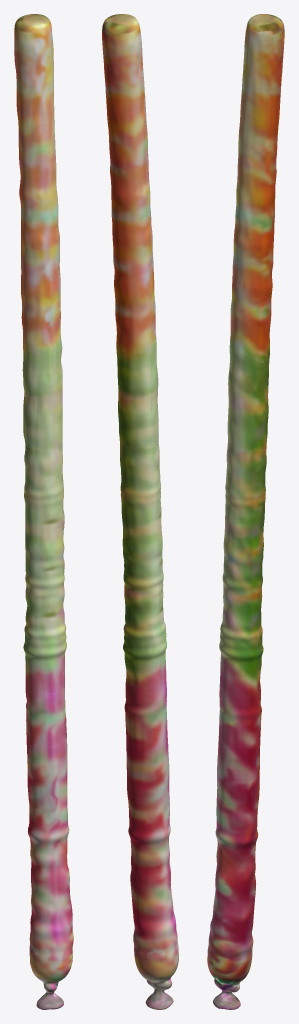
File: Colorful_Decorative_S_1002063658.glb
3 views of the same model, side by side, from view 1: azimuth 90°, elevation 25°; view 2: azimuth 150°, elevation 25°; view 3: azimuth 330°, elevation 25° (orthographic).
Bounding box in the file's own units: 0.1322 × 2 × 0.1101.
Materials: 1 (1 with a texture image).
